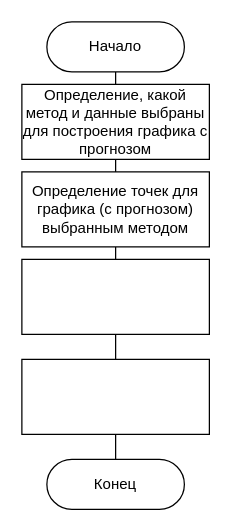
Some shapes in this 231 by 531 pixel diagram are drawn without their labels. Each missing label, with the centre of its shape:
"Поиск наибольшего и наименьшего значения графика" goes at point (115, 296).
"Построение графика" goes at point (115, 396).
